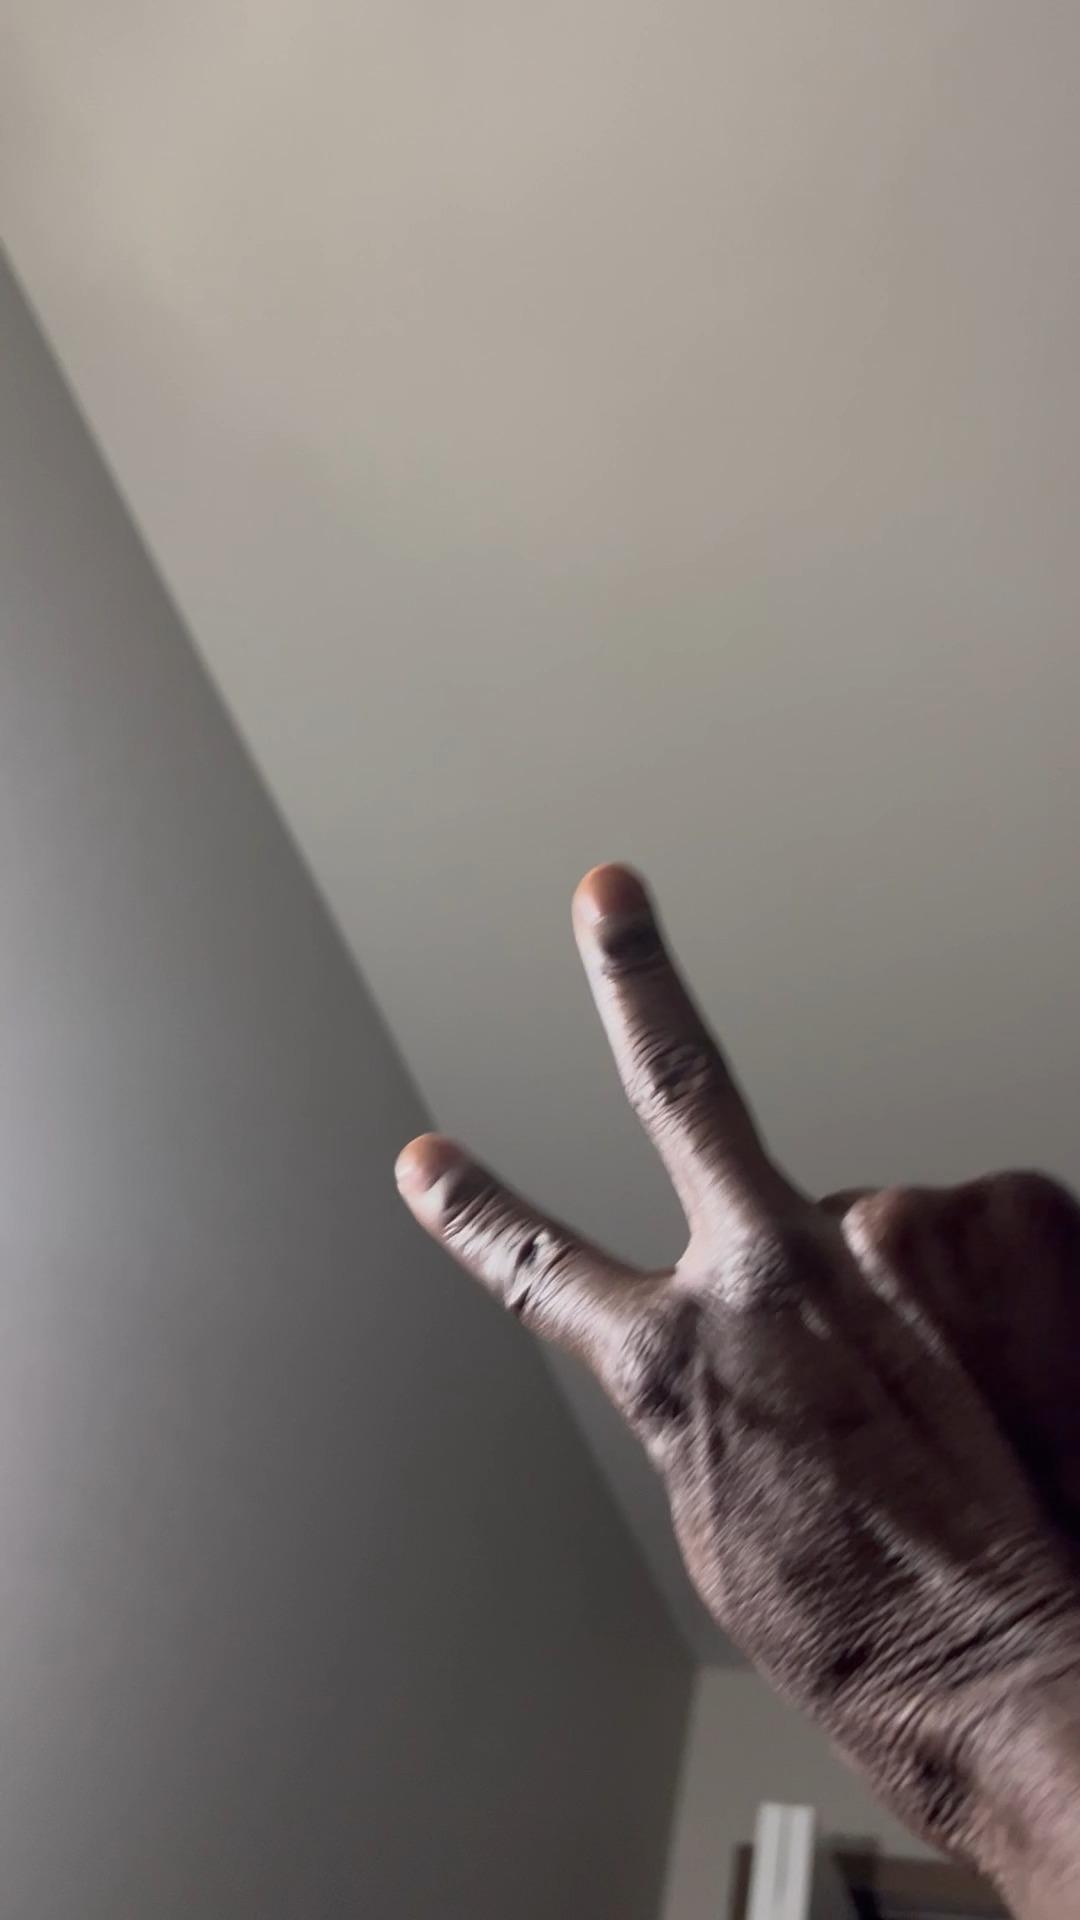Scissors: (393, 855, 1080, 1920)
